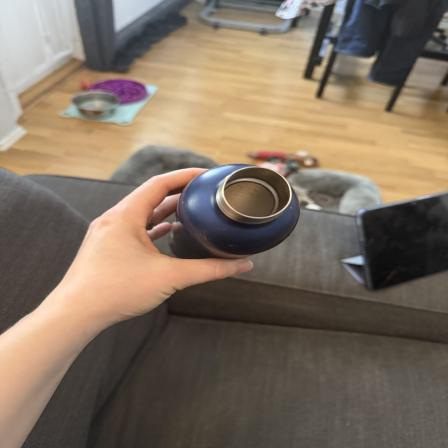blue_bottle: (161, 162, 301, 262)
